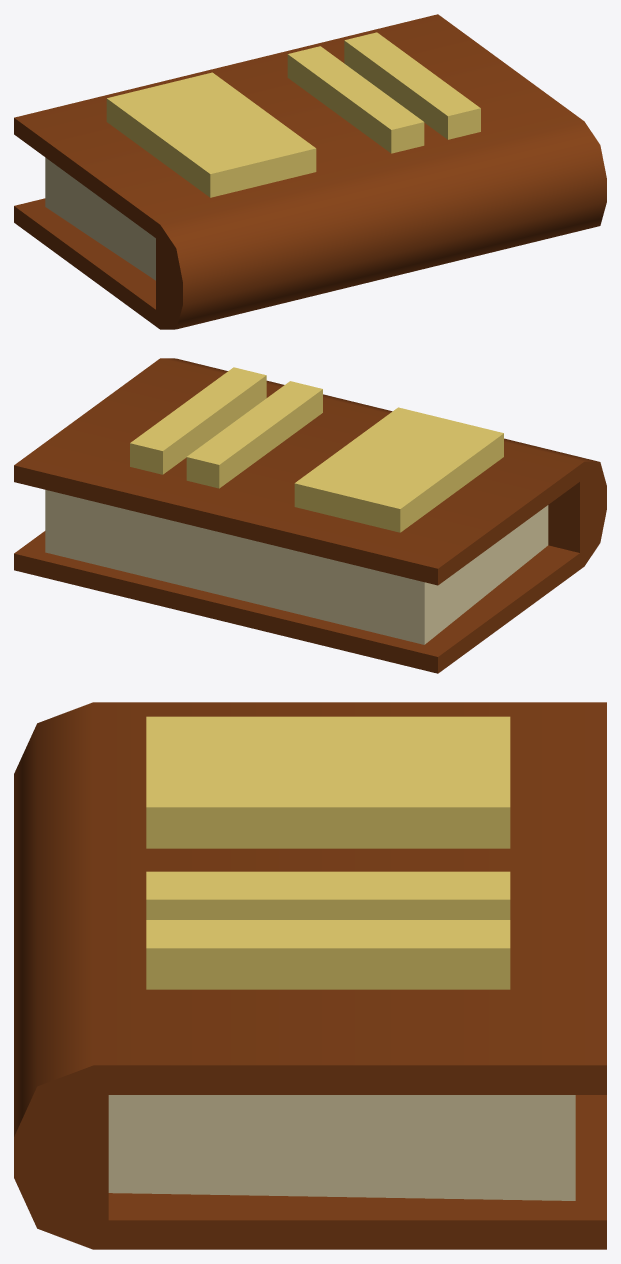
File: book.fbx
3 renders of one model, top to bottom at view 1: azimuth 30°, elevation 25°; view 2: azimuth 150°, elevation 25°; view 3: azimuth 270°, elevation 25°, orthographic. The views are drawn at different scales.
Visible parts, largest first — view 1: Cube.016; view 2: Cube.016; view 3: Cube.016.
Boxes of the visible parts, bbox=[...] form: Cube.016: bbox=[14, 14, 606, 329]; Cube.016: bbox=[14, 358, 606, 673]; Cube.016: bbox=[14, 702, 606, 1249].
Bounding box in the file's own units: 59.85 × 17.34 × 41.3.
